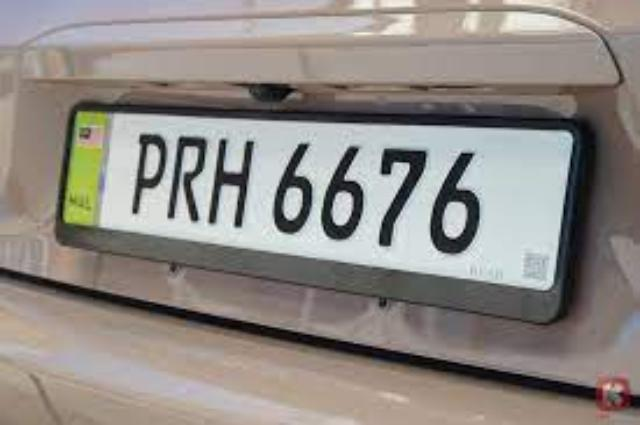License_Plate: (55, 100, 594, 325)
car: (2, 2, 639, 423)
